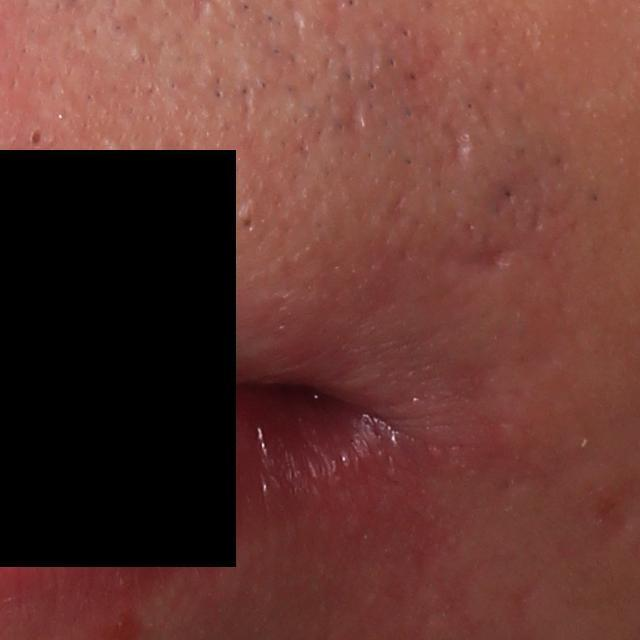atrophic_scar: (463, 232, 523, 270), (444, 114, 473, 171)
comedo: (22, 121, 51, 153), (238, 208, 263, 236)
